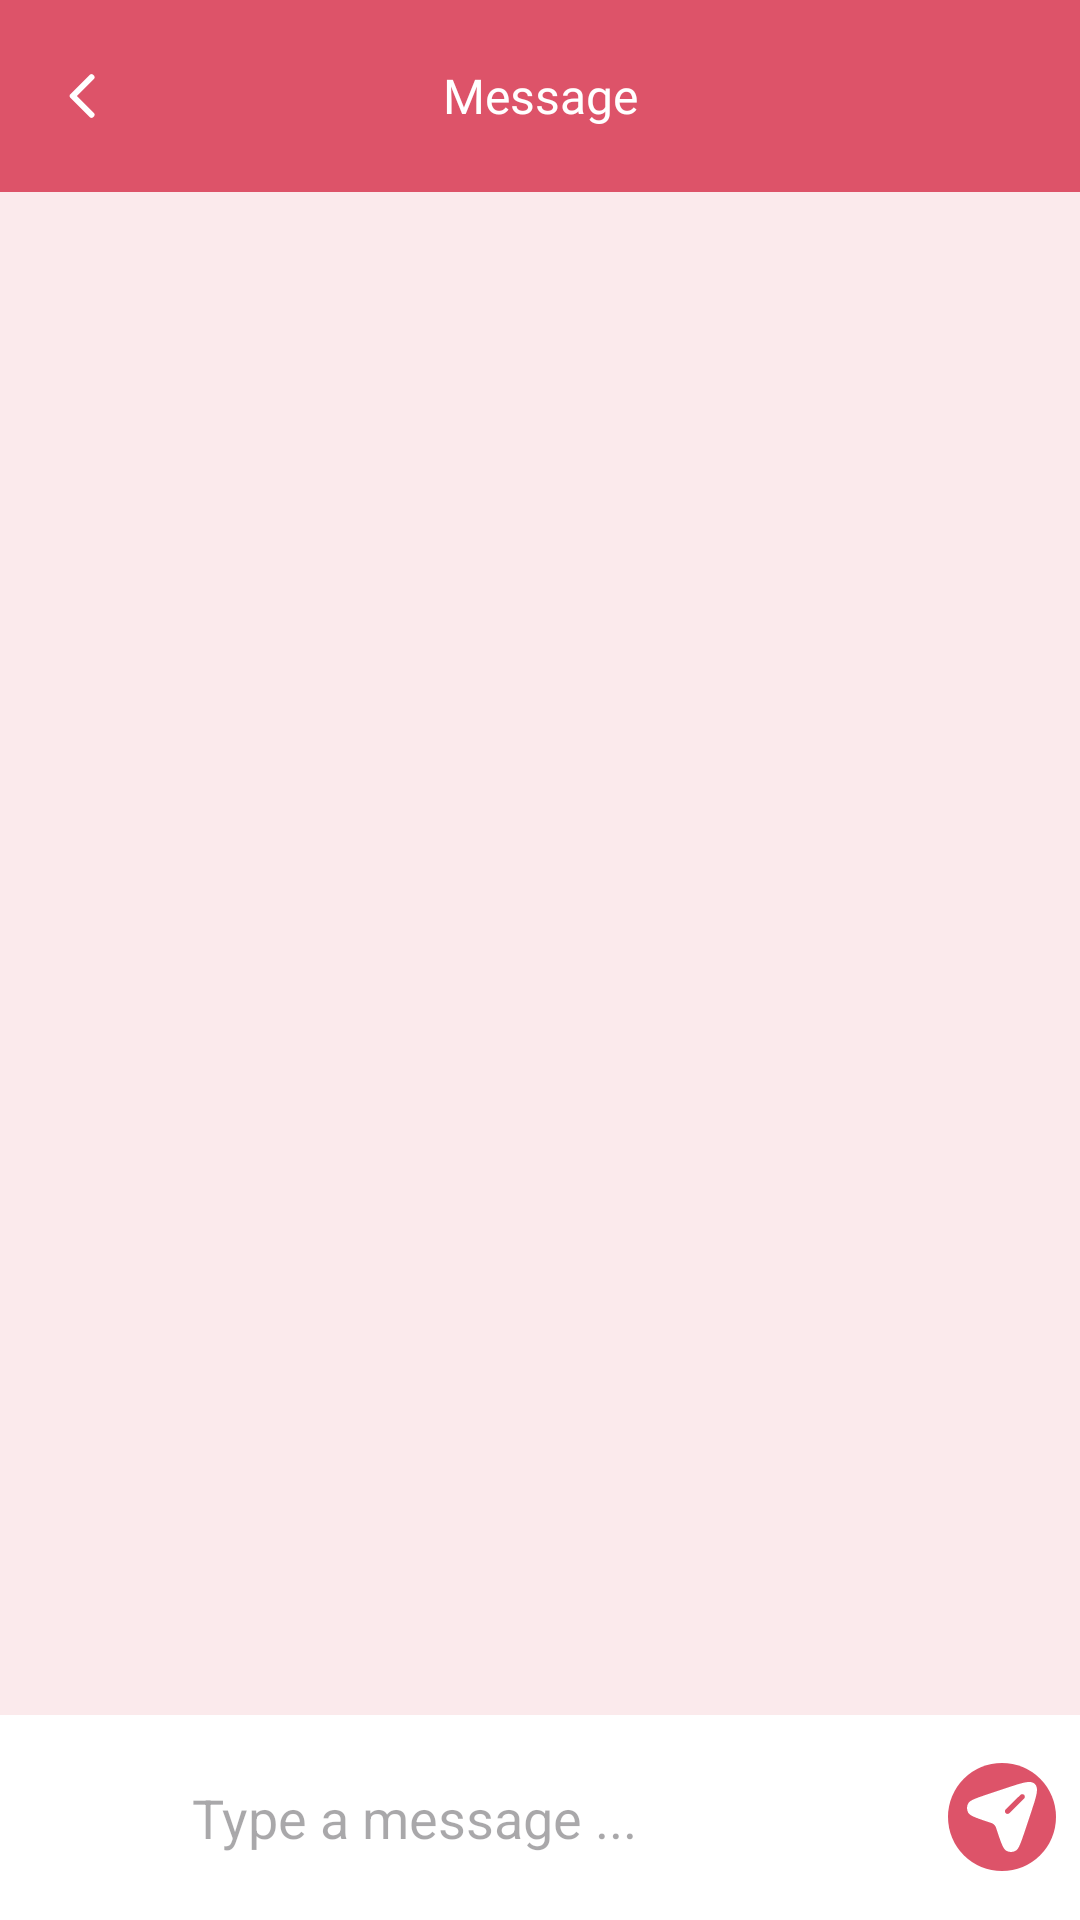

Icons on this 1080px×1920px Android screen, each with its box as bbox=(x1, y1, x2, y2):
send: bbox=(948, 1763, 1056, 1871)
